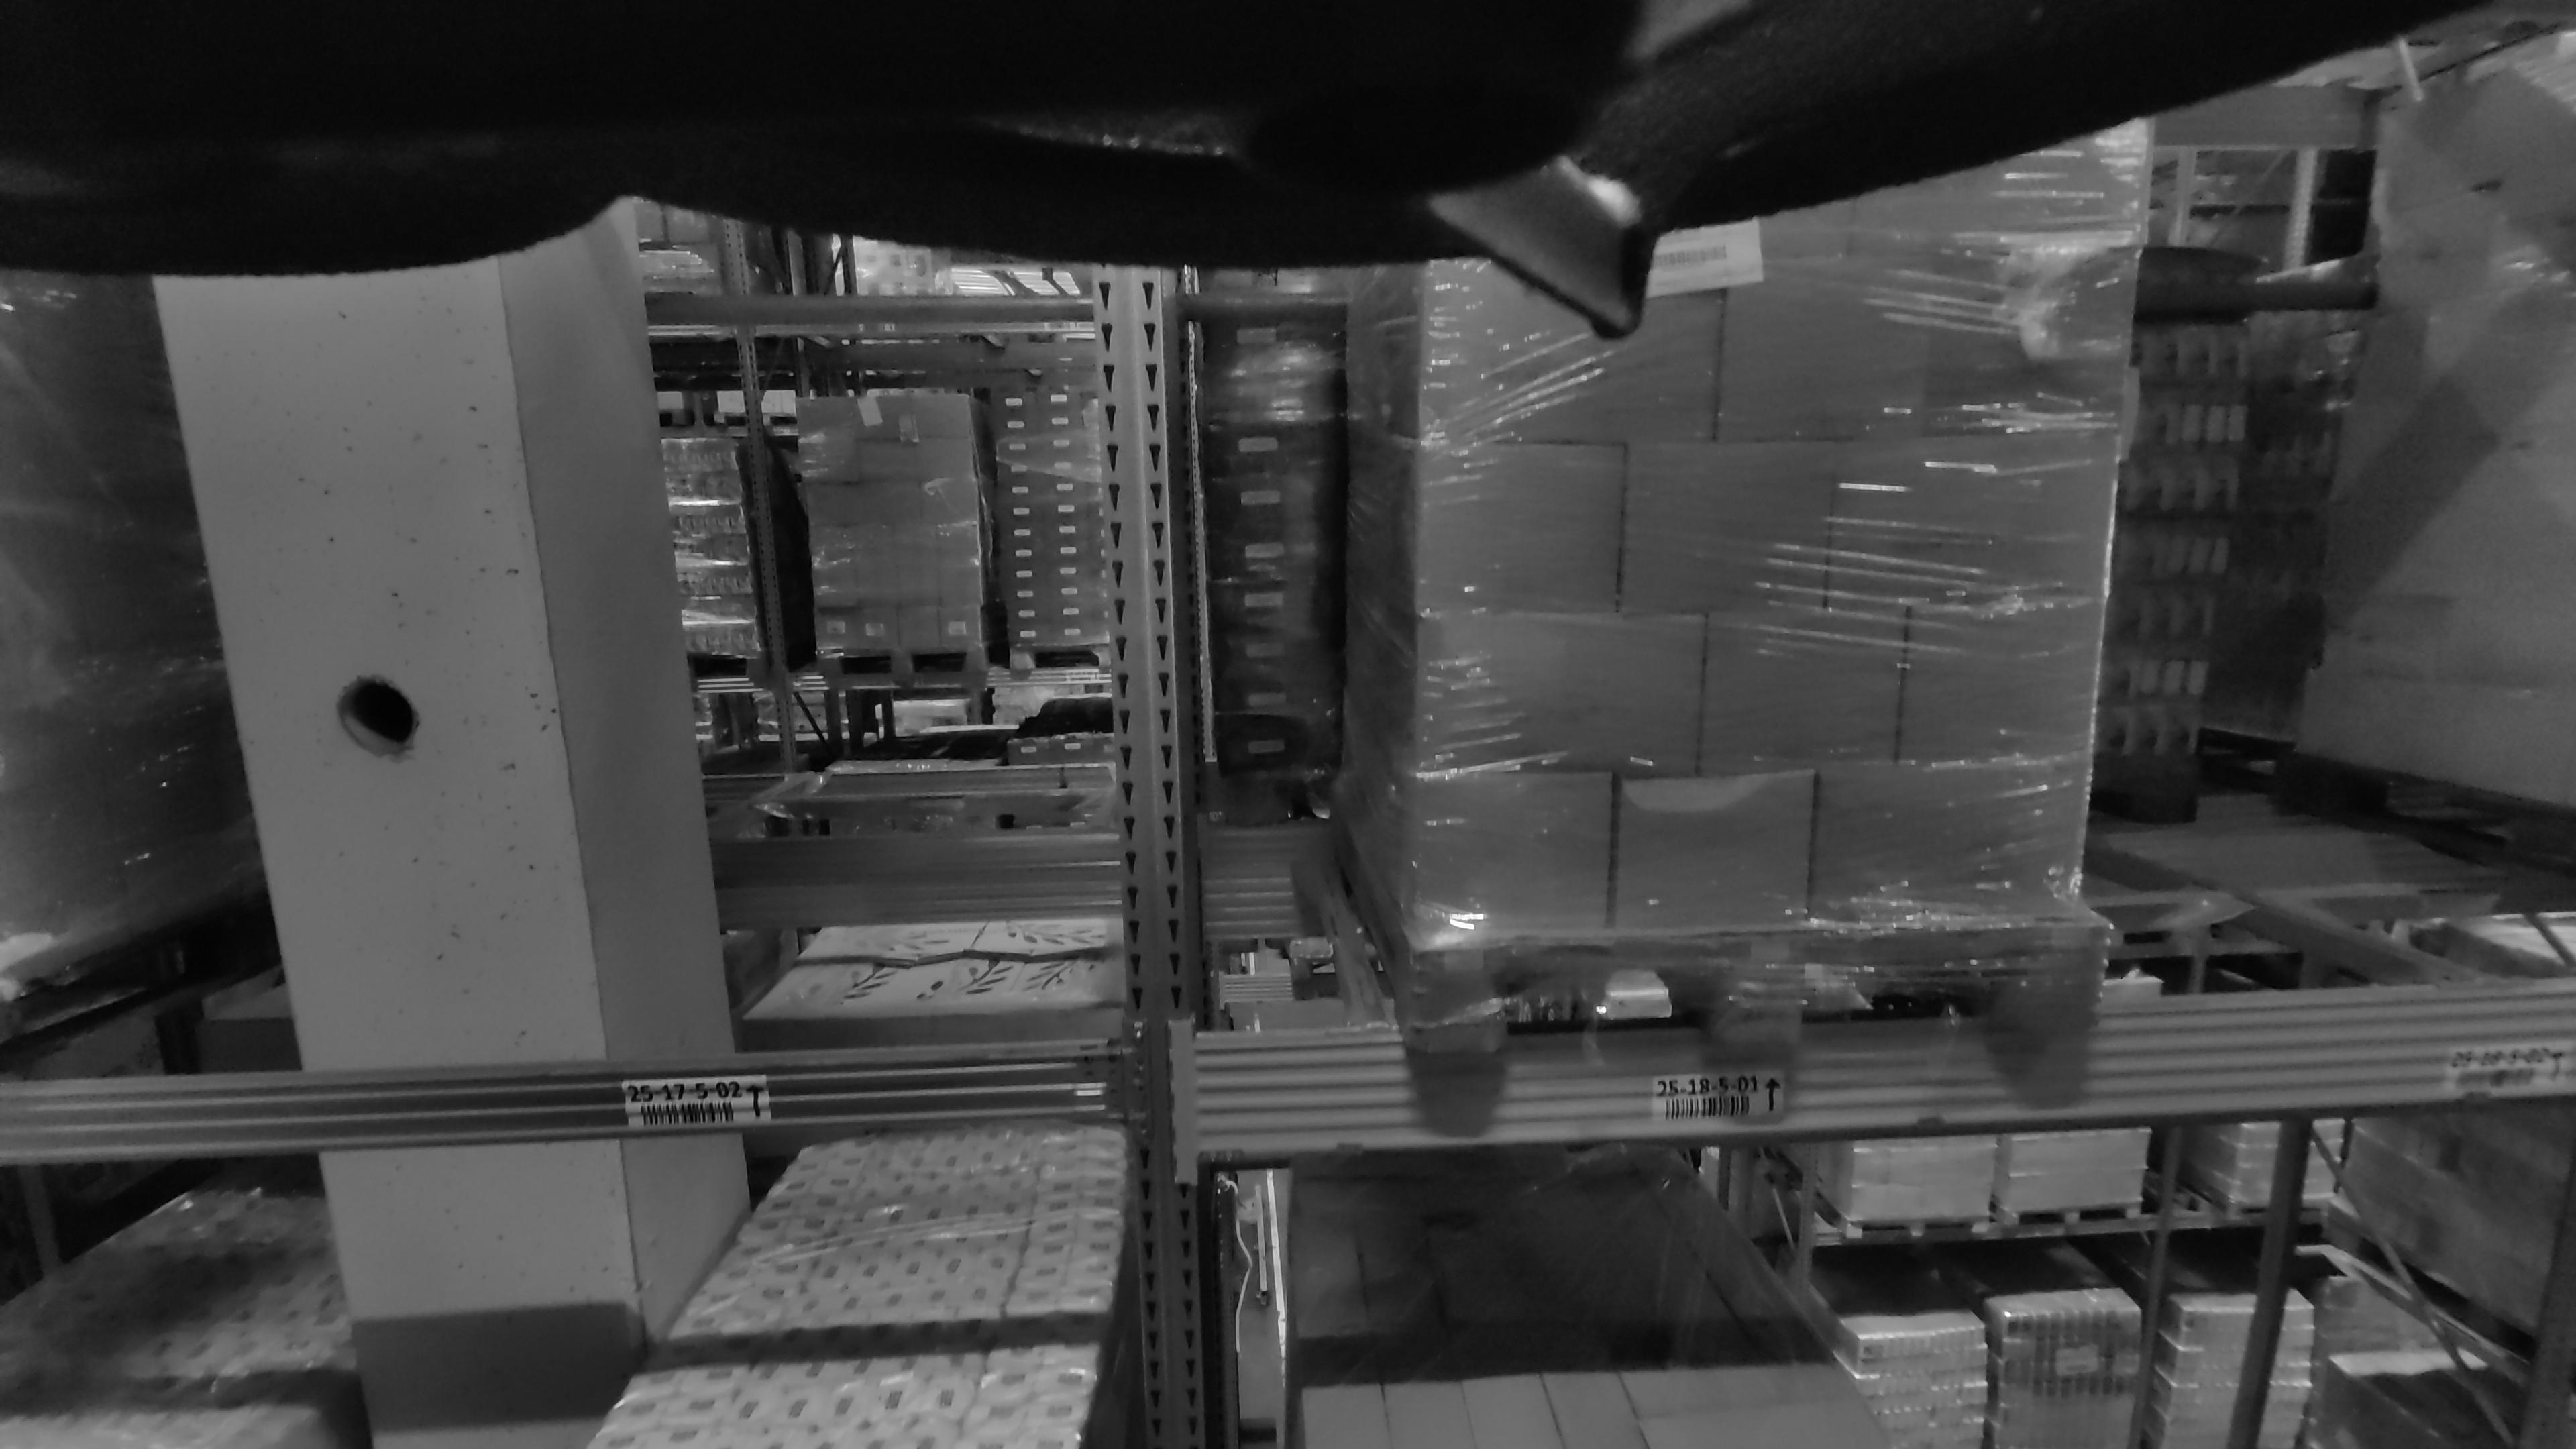empty-shelf: (763, 251, 1108, 837)
